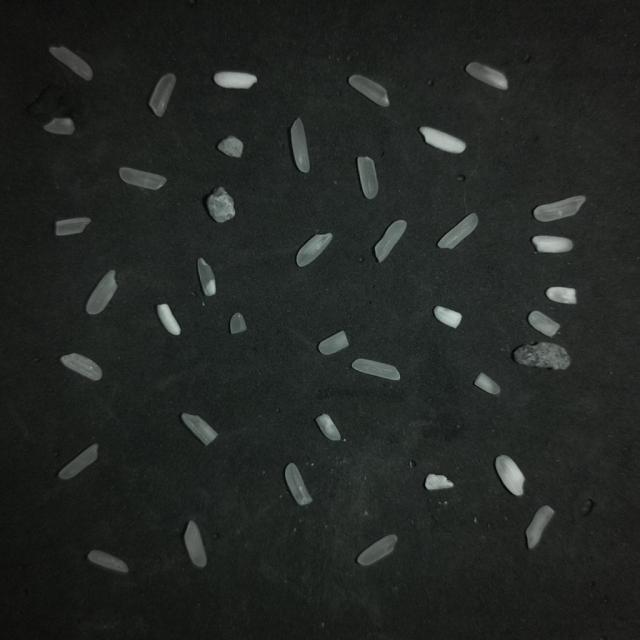broken: (55, 217, 91, 236), (44, 118, 74, 134), (230, 312, 246, 334)
chalky: (375, 220, 406, 262), (526, 505, 554, 549), (465, 62, 508, 90), (420, 127, 466, 153), (495, 455, 524, 496), (60, 353, 102, 381), (297, 233, 332, 266), (182, 414, 217, 445), (528, 311, 559, 336), (157, 304, 181, 335), (214, 72, 257, 89), (197, 258, 216, 296), (532, 236, 573, 253), (319, 331, 348, 354), (316, 414, 340, 441), (434, 306, 461, 328), (474, 373, 500, 394), (546, 287, 576, 304)
foreign: (514, 342, 570, 369), (207, 187, 235, 223), (217, 136, 243, 158), (425, 474, 453, 490)
whole: (50, 47, 93, 81), (59, 444, 98, 479), (86, 270, 117, 314), (438, 214, 478, 248), (534, 196, 586, 221), (349, 75, 389, 106), (357, 535, 397, 565), (149, 74, 176, 116), (285, 463, 312, 505), (119, 167, 166, 190), (290, 118, 309, 173), (184, 521, 206, 568), (352, 359, 399, 380), (87, 550, 128, 573), (357, 157, 378, 199)
